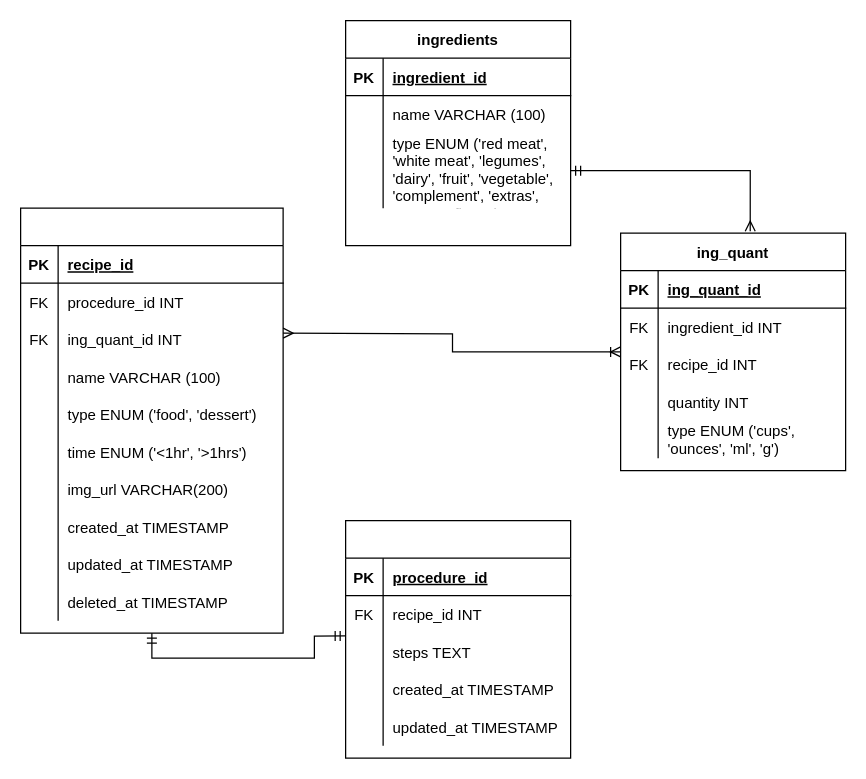
The diagram is 866 pixels wide and 779 high, and some of its shapes have lost their labels. Here are the shapes that lost their labels. From the top down, the box of each, then its label:
(19, 207, 283, 633): recipes
(344, 519, 571, 758): procedures
